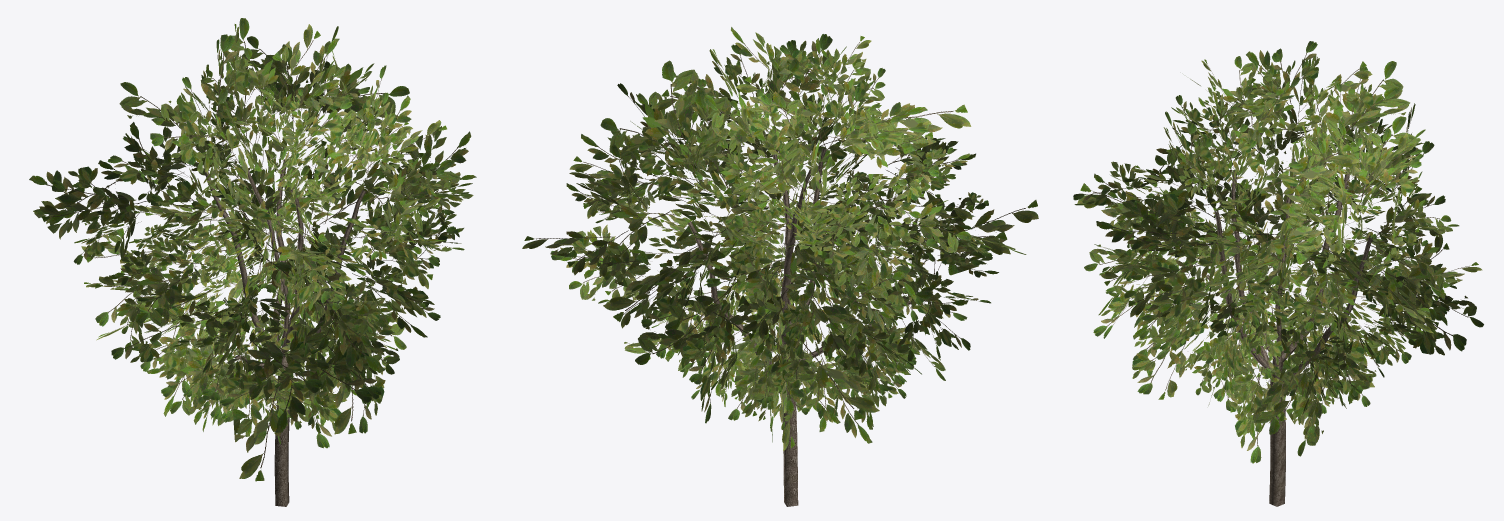
File: tree_oak_v0_l1.glb
3 views of the same model, side by side, from view 1: azimuth 30°, elevation 25°; view 2: azimuth 150°, elevation 25°; view 3: azimuth 270°, elevation 25° (orthographic). The views are drawn at different scales.
Visible parts, largest first — view 1: tree_oak_v0_l1; view 2: tree_oak_v0_l1; view 3: tree_oak_v0_l1.
Boxes of the visible parts, box(x1,y1,x2,y2) form: tree_oak_v0_l1: box(29, 18, 476, 506); tree_oak_v0_l1: box(522, 27, 1038, 506); tree_oak_v0_l1: box(1073, 41, 1483, 506).
Size of the model in its own units: 12.33 by 13.69 by 11.19.
2 materials, 2 textured.
